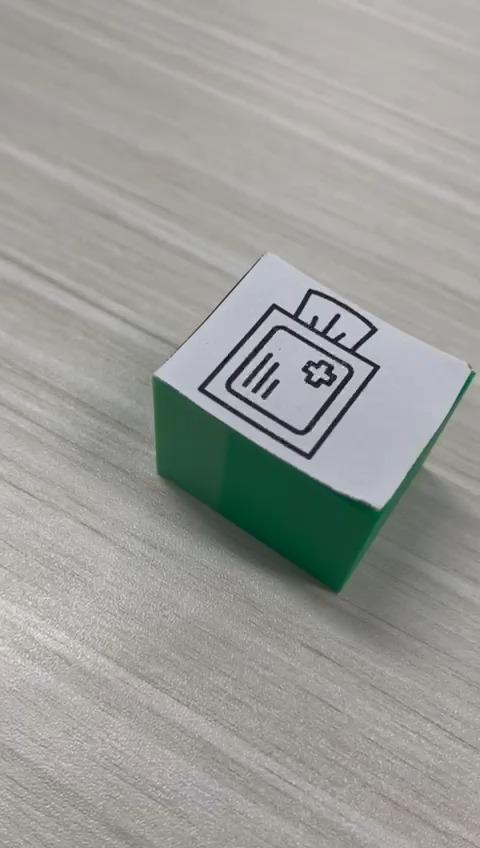Gauze: (150, 250, 475, 593)
